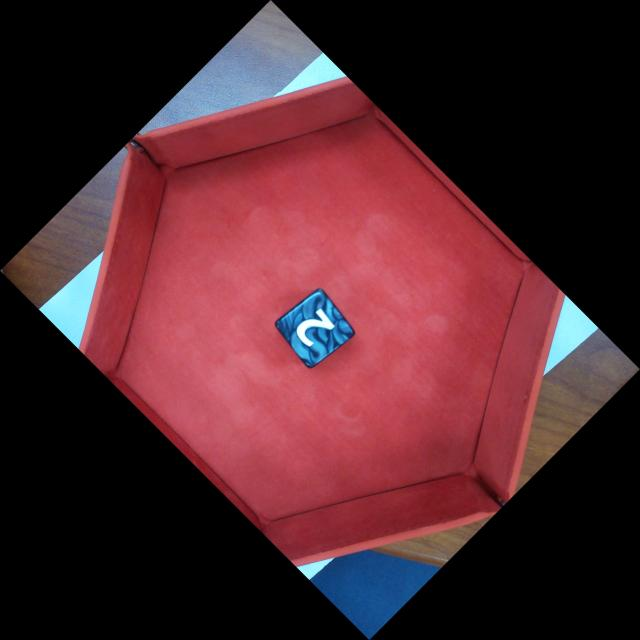dice: (279, 289, 359, 372)
